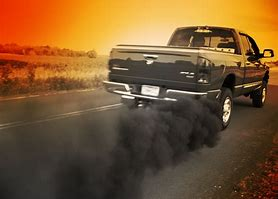smoke: (1, 95, 223, 198)
